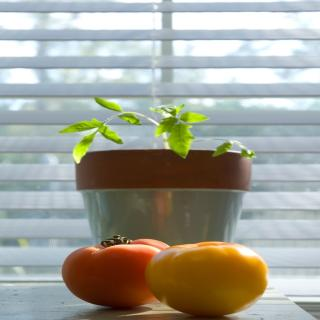tomato: (142, 241, 268, 317), (58, 239, 170, 307)
